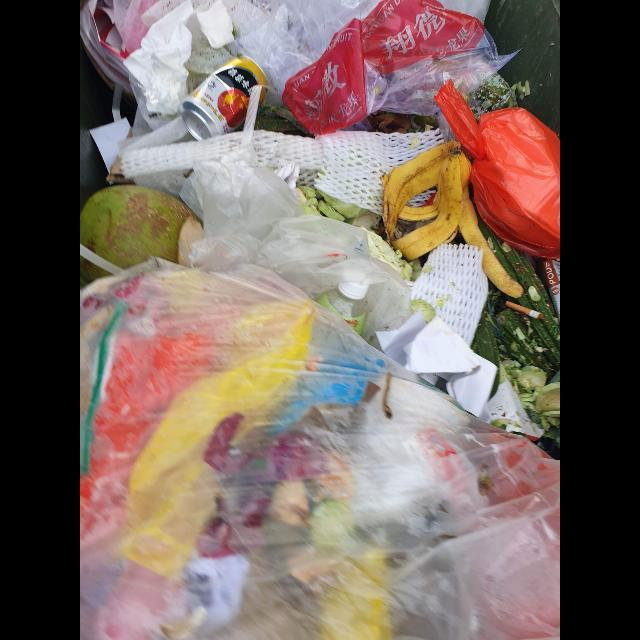aluminum: (181, 57, 268, 142)
plastic_bag: (434, 79, 560, 262)
